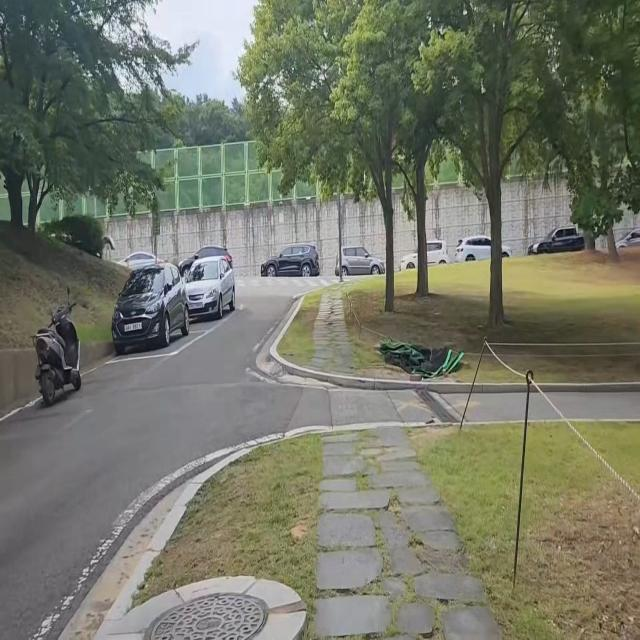obstacle: (108, 243, 245, 360), (29, 277, 91, 410)
road: (0, 283, 301, 640)
sidewalk: (310, 430, 517, 640), (313, 284, 366, 381)
